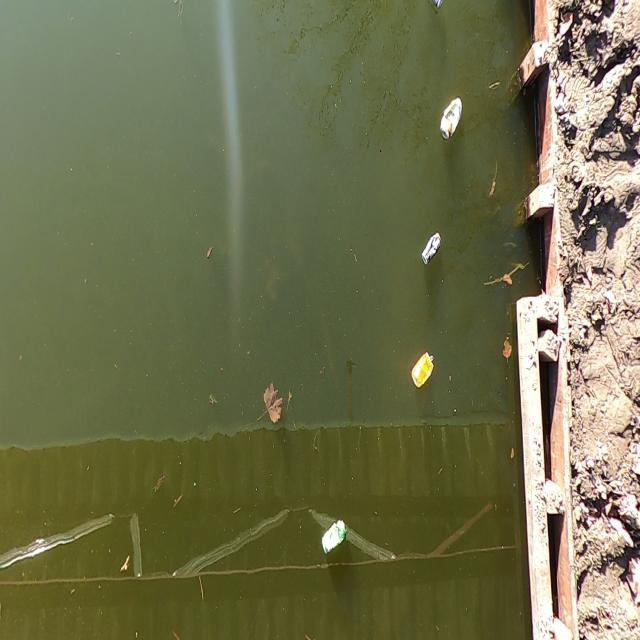Non plastique: (316, 513, 352, 560), (438, 90, 468, 146), (409, 347, 439, 398), (419, 228, 445, 274)
